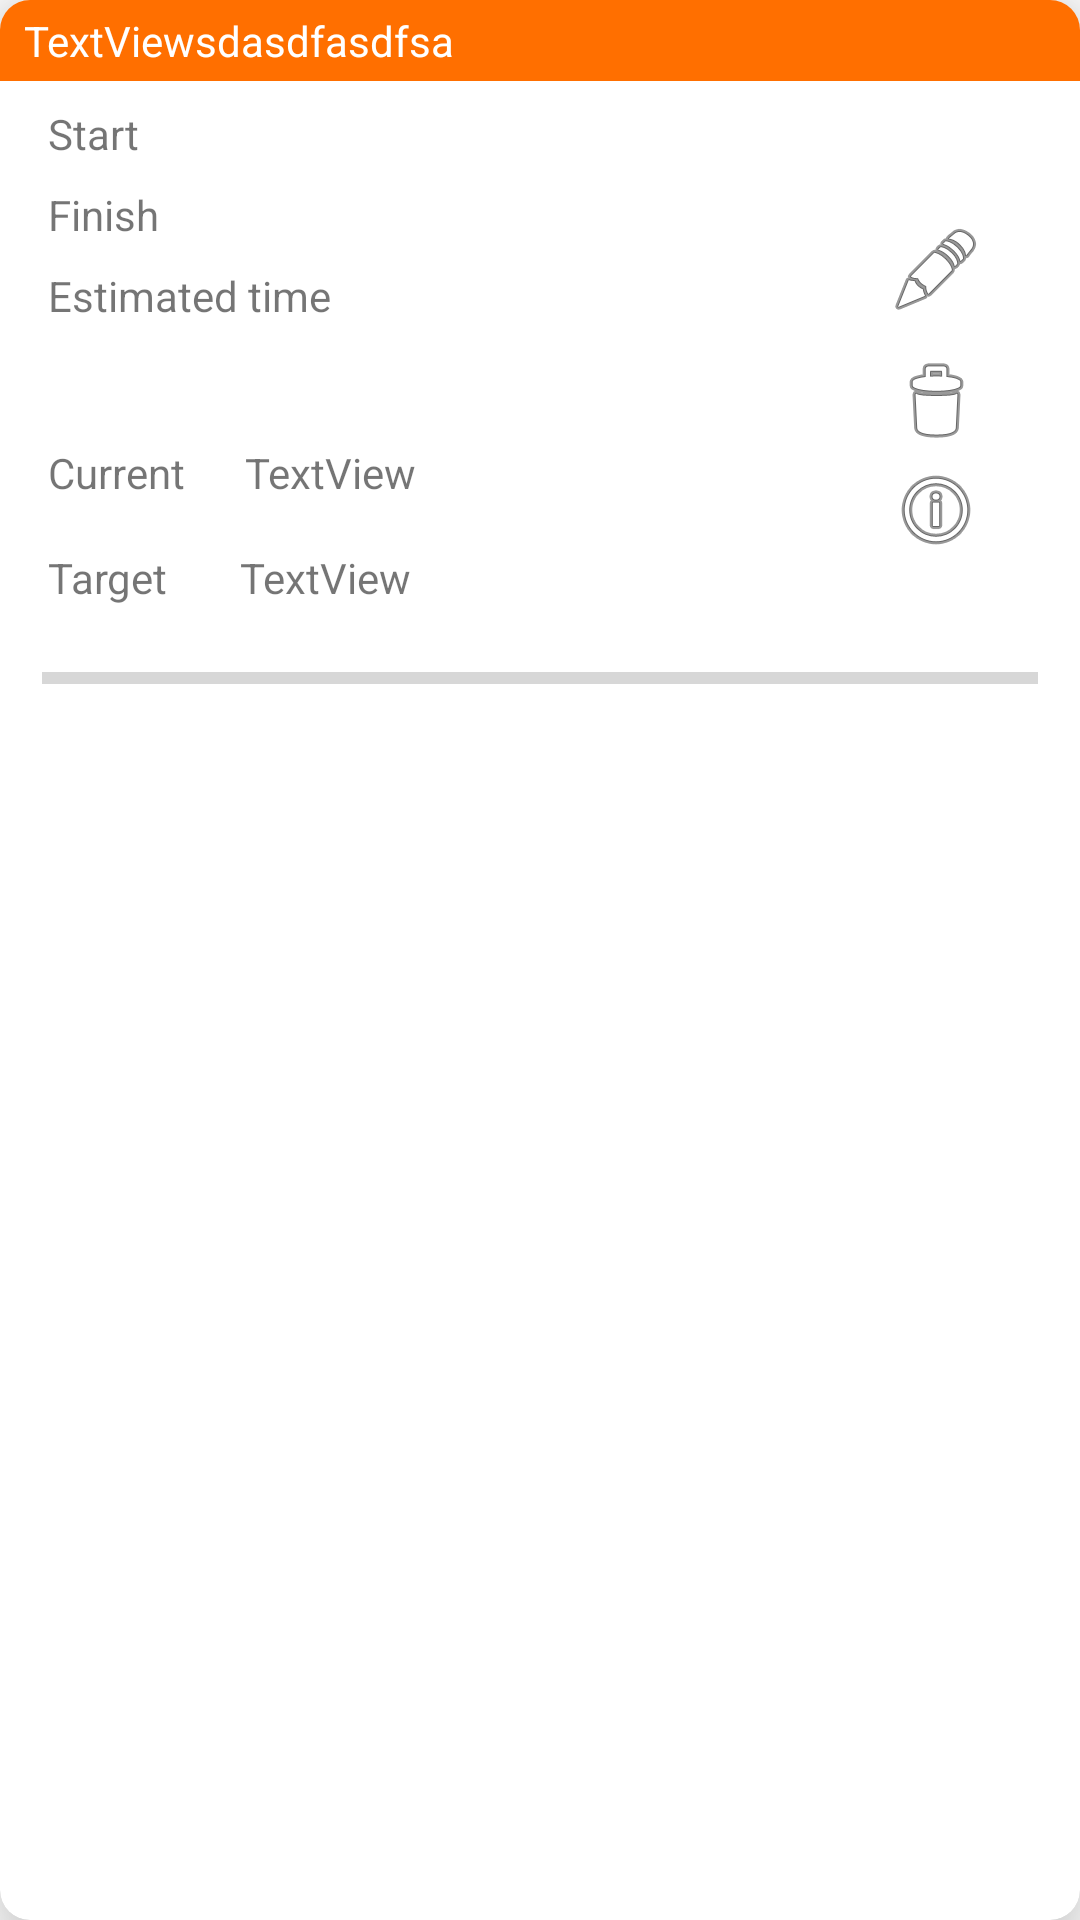

Point at icon controls on the screen. Image size 1080w x 1920h, points as (x,y).
delete: (936,400)
edit: (935,269)
info details: (936,510)
